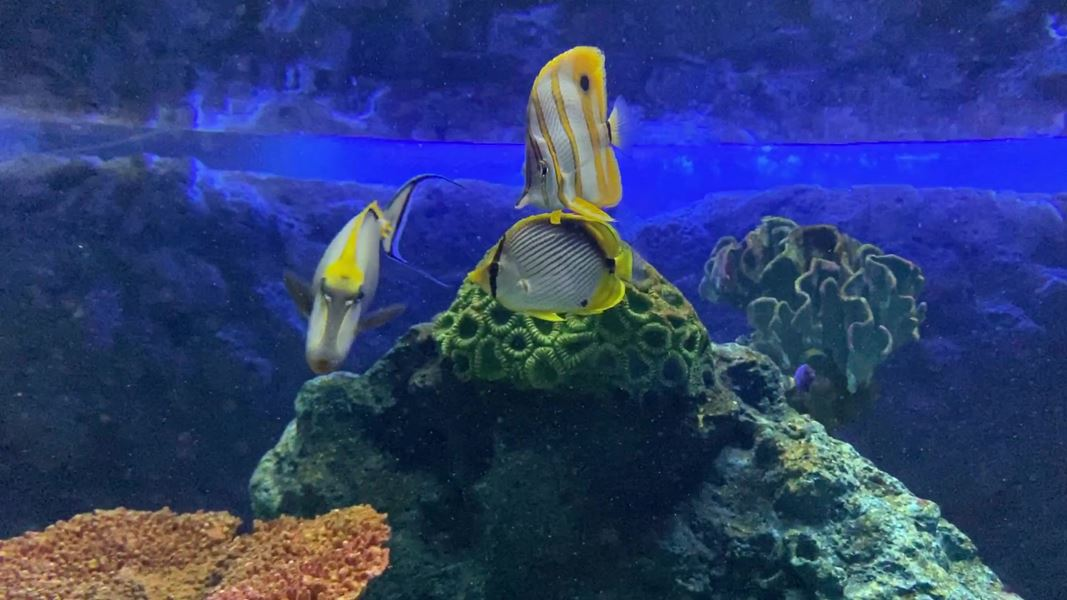Black-backed butterflyfish: (462, 207, 658, 331)
